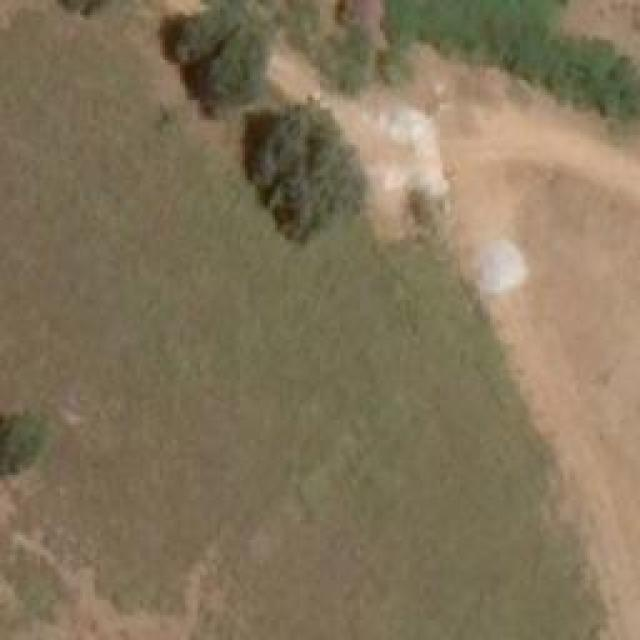Tree: (245, 100, 360, 235), (381, 0, 570, 74), (170, 8, 265, 118), (544, 34, 640, 121), (0, 417, 42, 477), (372, 45, 417, 88), (54, 0, 117, 22)
